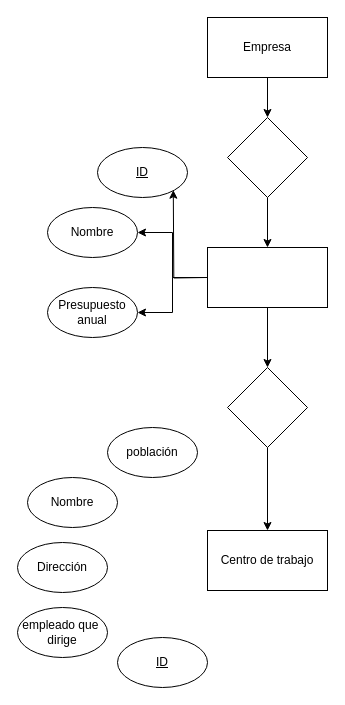
The diagram is 345 pixels wide and 705 high, and some of its shapes have lost their labels. Here are the shapes that lost their labels. From the top down, the centre of each, then its label:
At point 267,157: "Tiene".
At point 267,277: "Departamentos".
At point 267,407: "ubicados en:".
